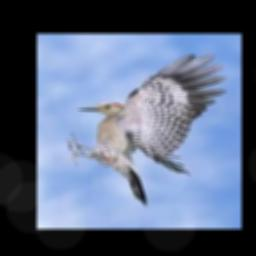Woodpecker: (66, 55, 227, 206)
